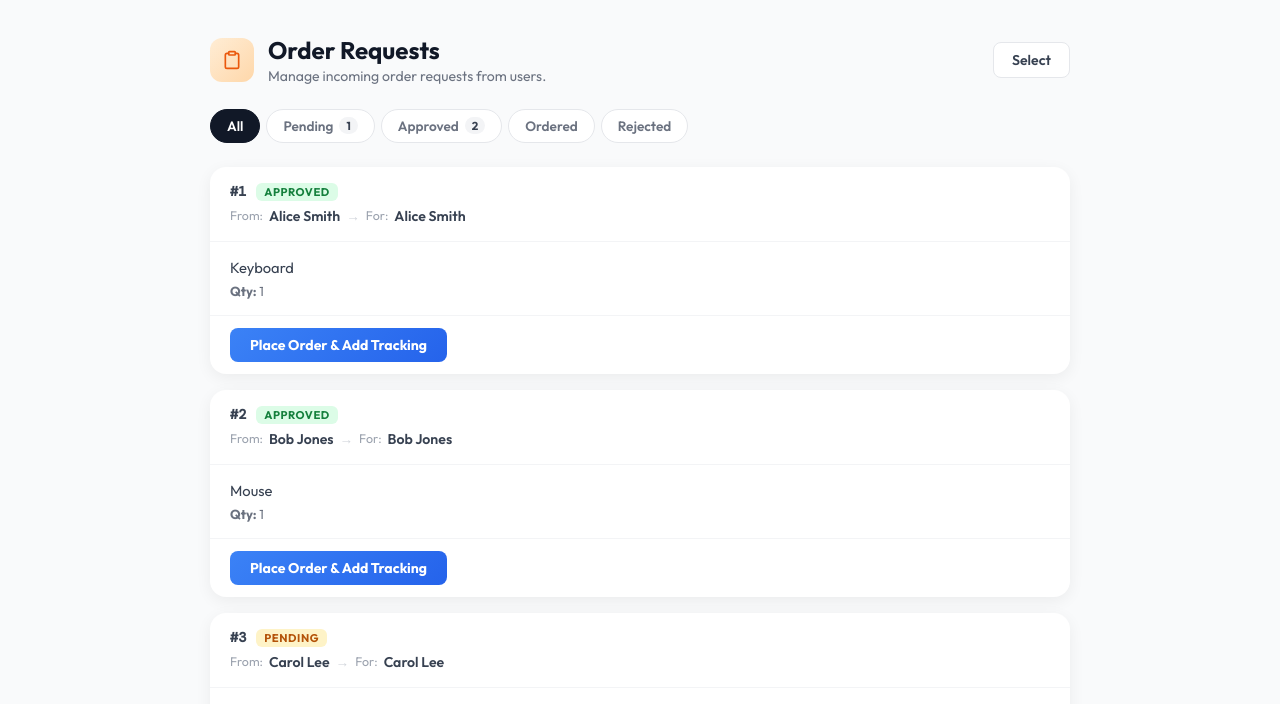
it: Group creation › submitting group name creates the group and reloads
Click the button "Select" at (1032, 60), box [993, 42, 1070, 78]
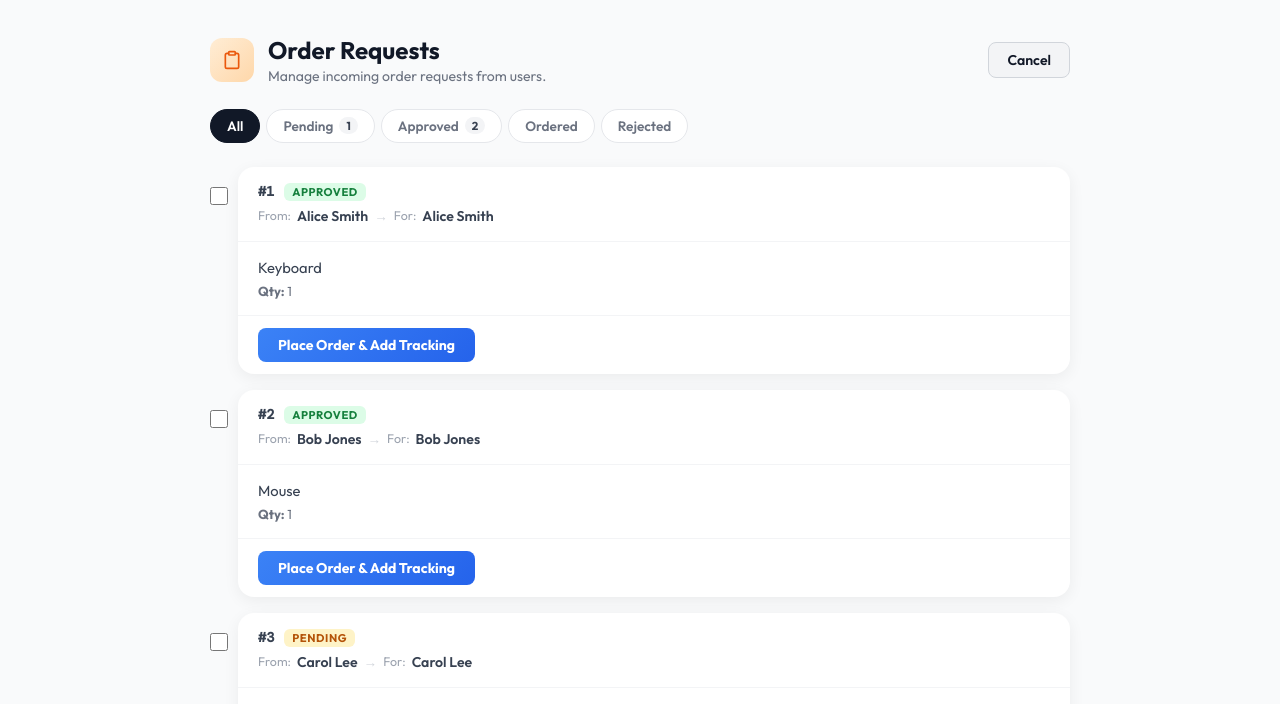
Click the 1st checkbox at (219, 196), box [210, 187, 228, 205]
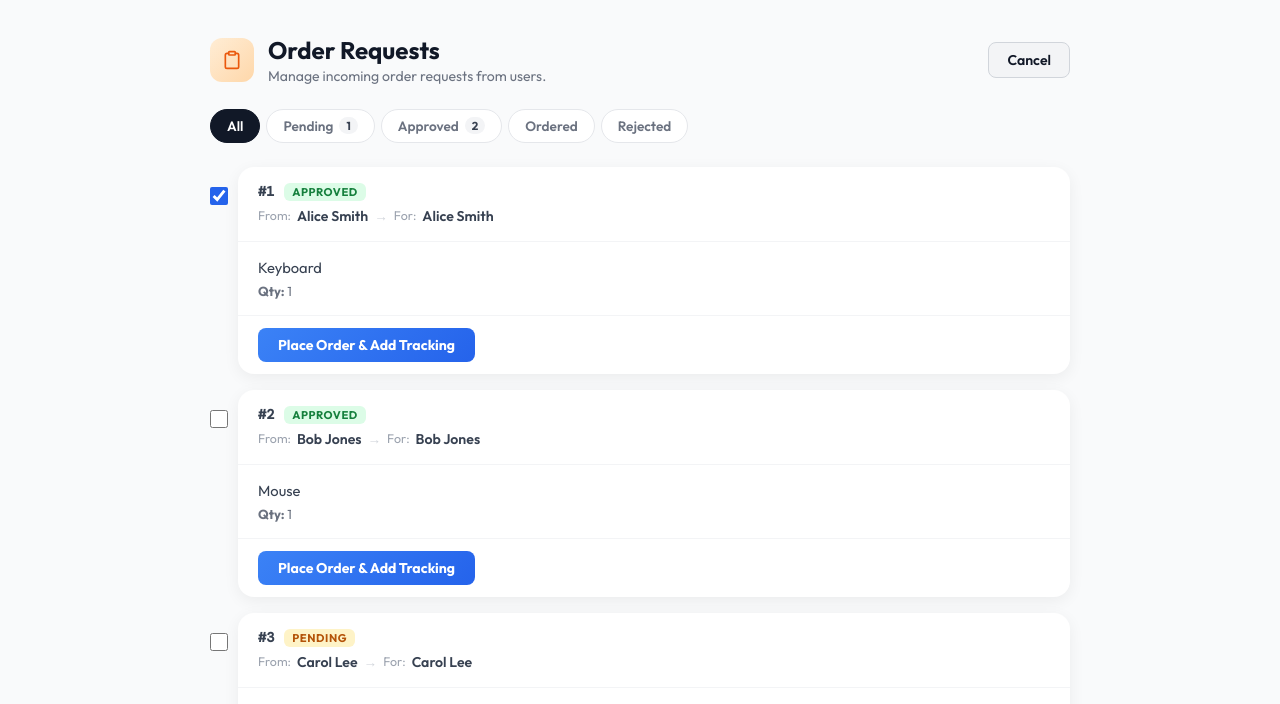
Click the 2nd checkbox at (219, 419), box [210, 410, 228, 428]
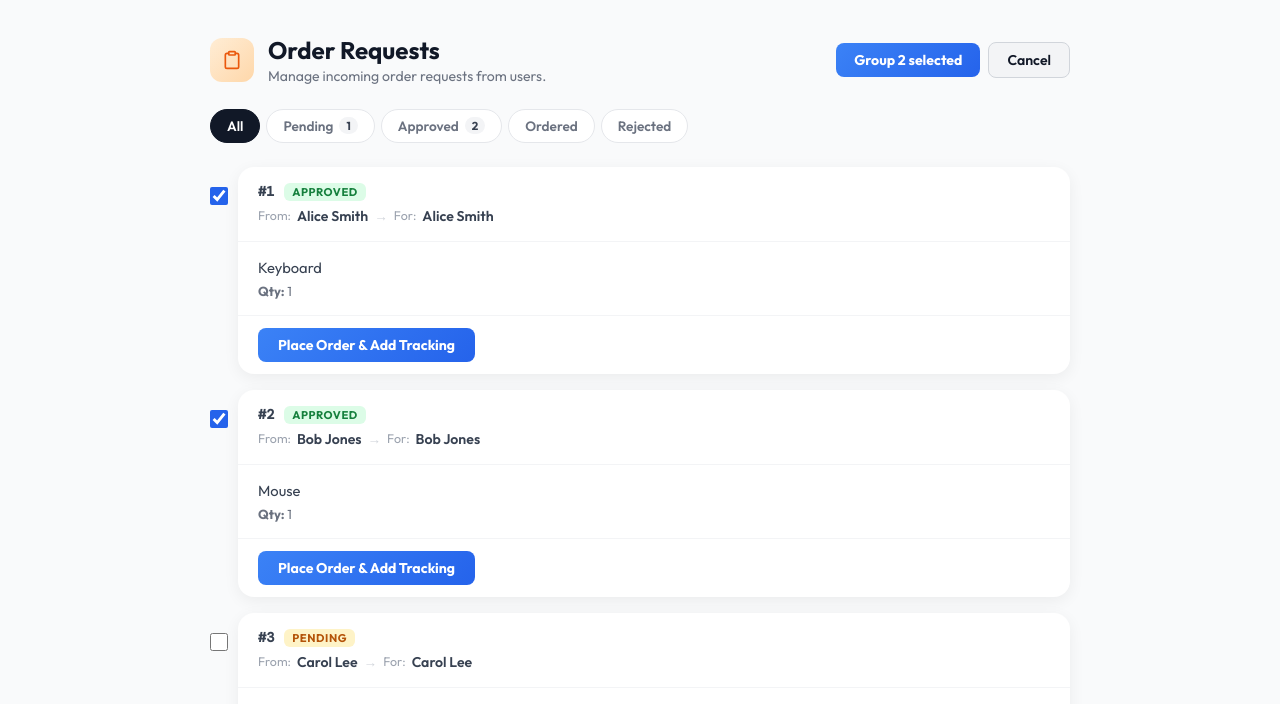
Click the button "Group 2 selected" at (908, 60), box [836, 43, 980, 77]
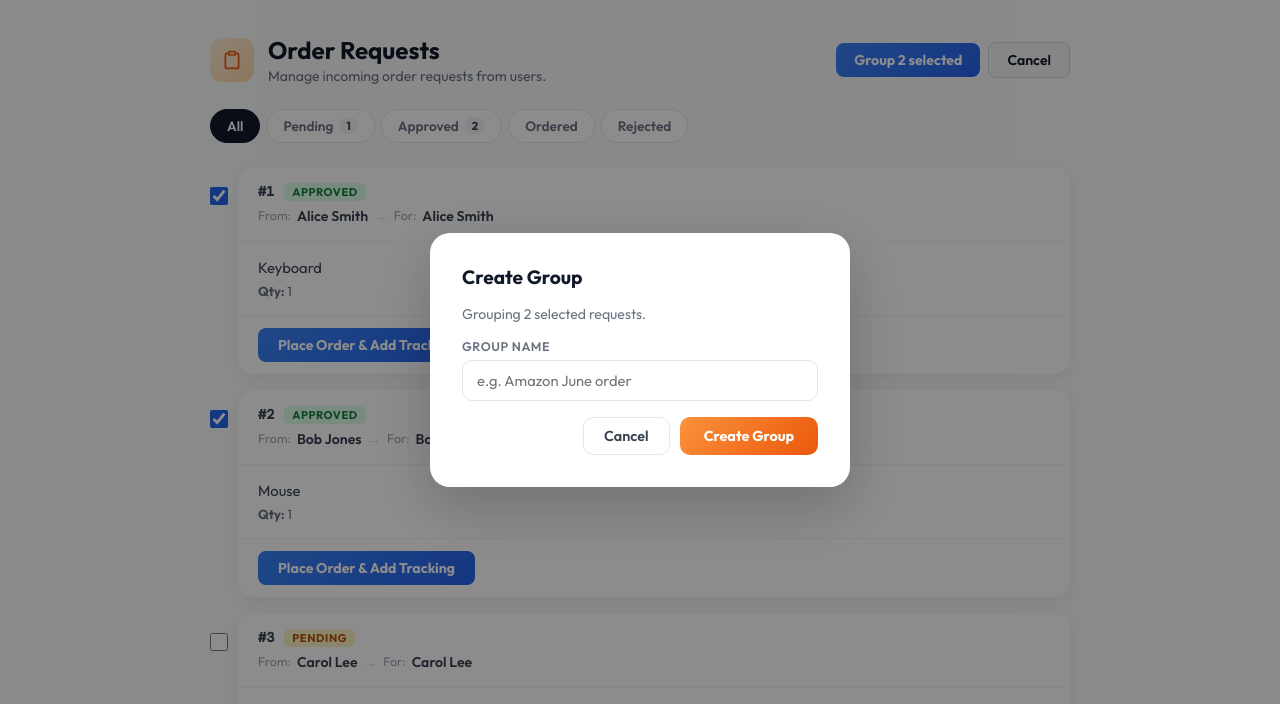
Type "Amazon batch" into the field with placeholder "e.g. Amazon June order" at (640, 380), box [462, 360, 818, 401]
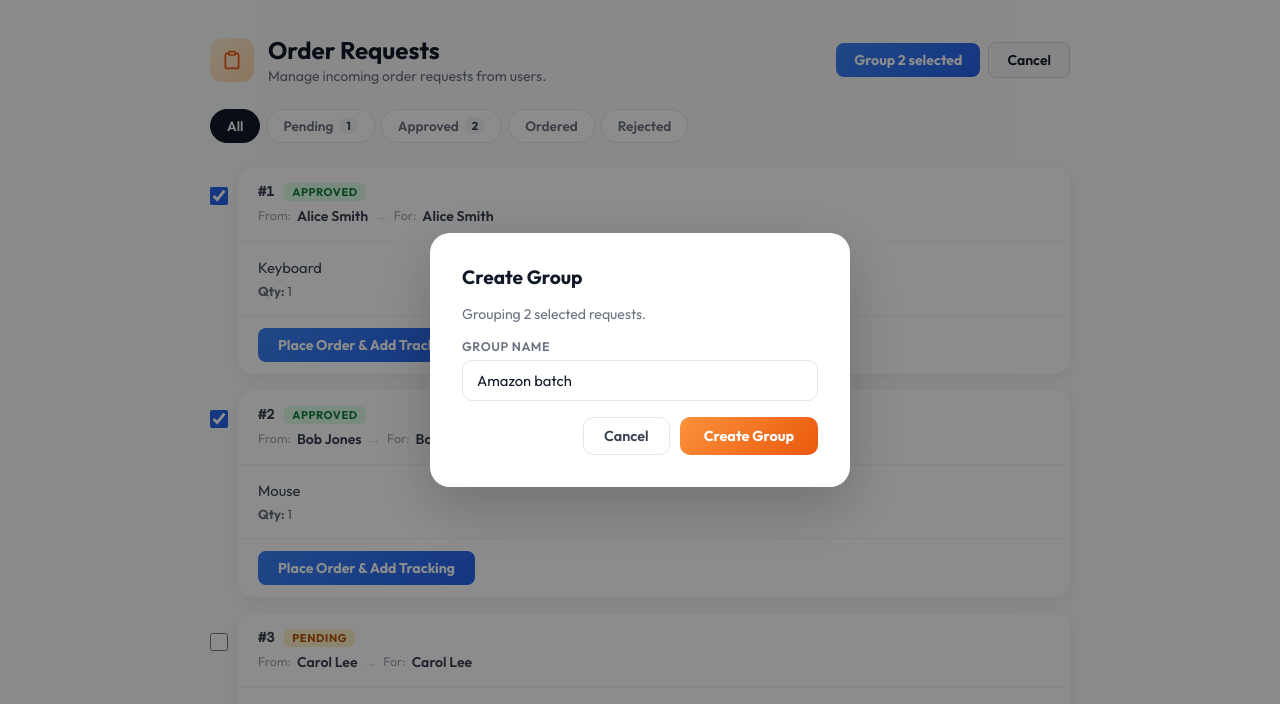
Click the button "Create Group" at (749, 436), box [680, 417, 818, 455]
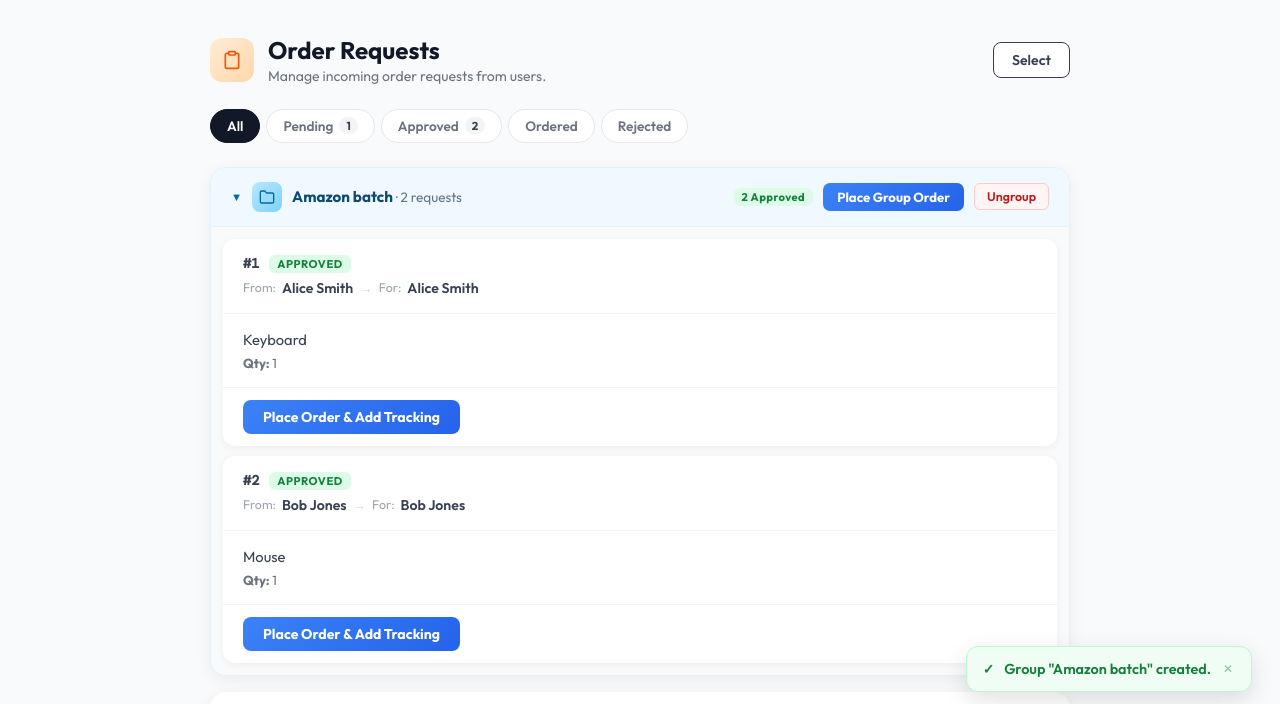
Expected: the text "Amazon batch" is shown, [292, 187, 393, 206]
